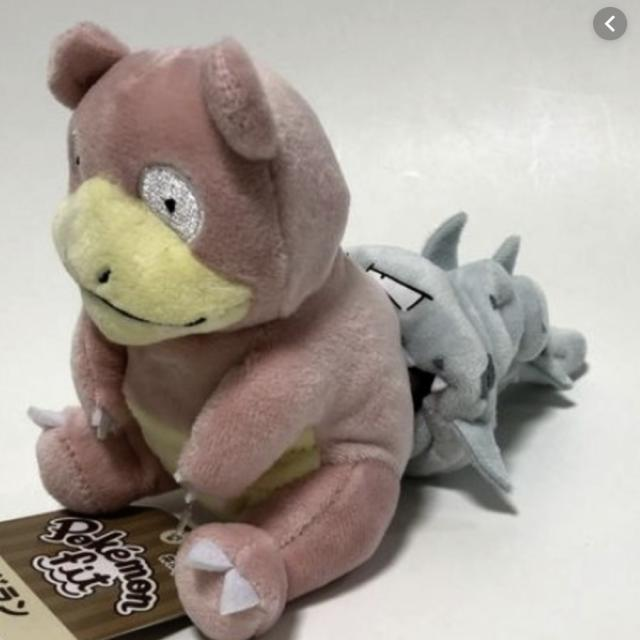Slowbro: (24, 18, 502, 550)
